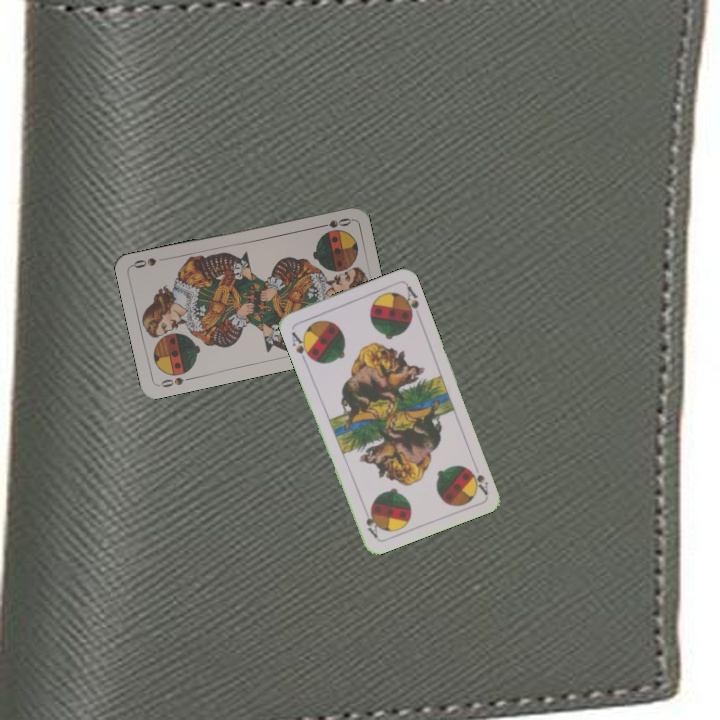SA: (287, 328, 314, 364), (465, 464, 491, 497)
SO: (313, 214, 354, 231), (155, 373, 195, 390)
